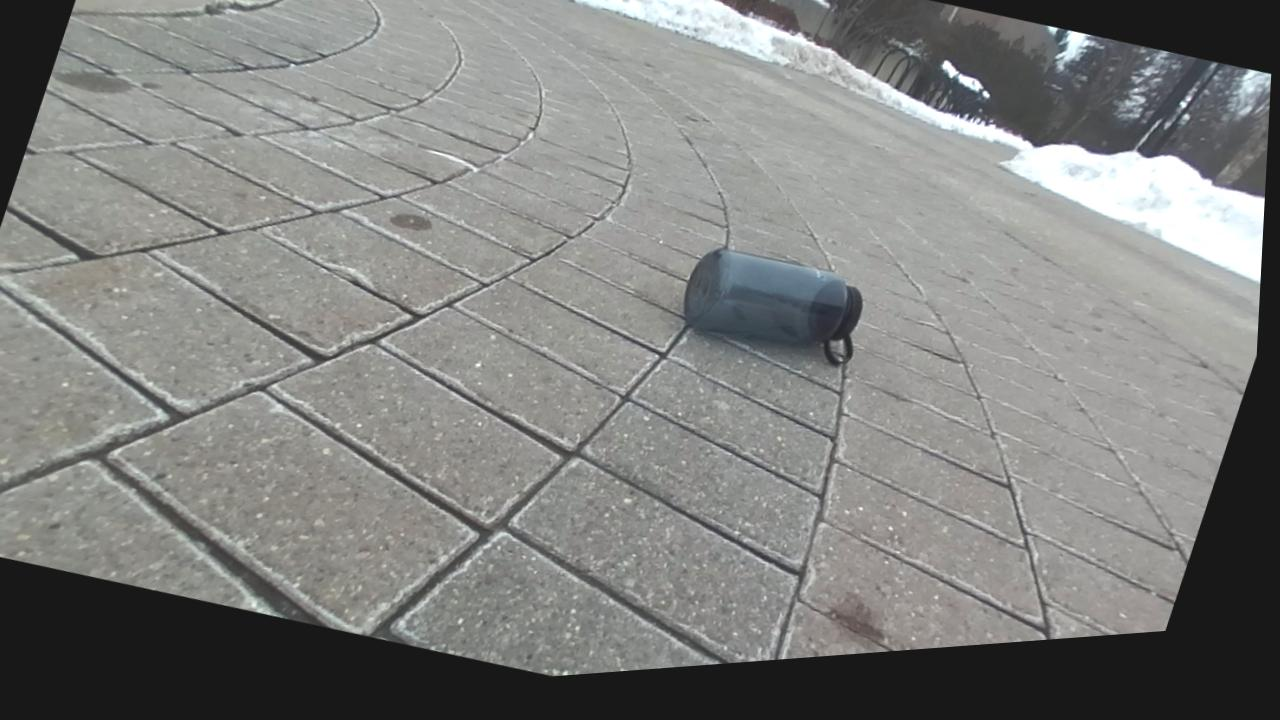bottle: (683, 247, 862, 364)
